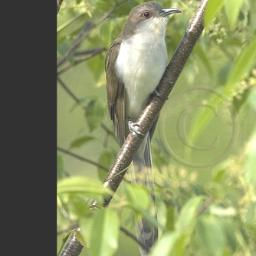Cuckoo: (106, 0, 183, 228)
